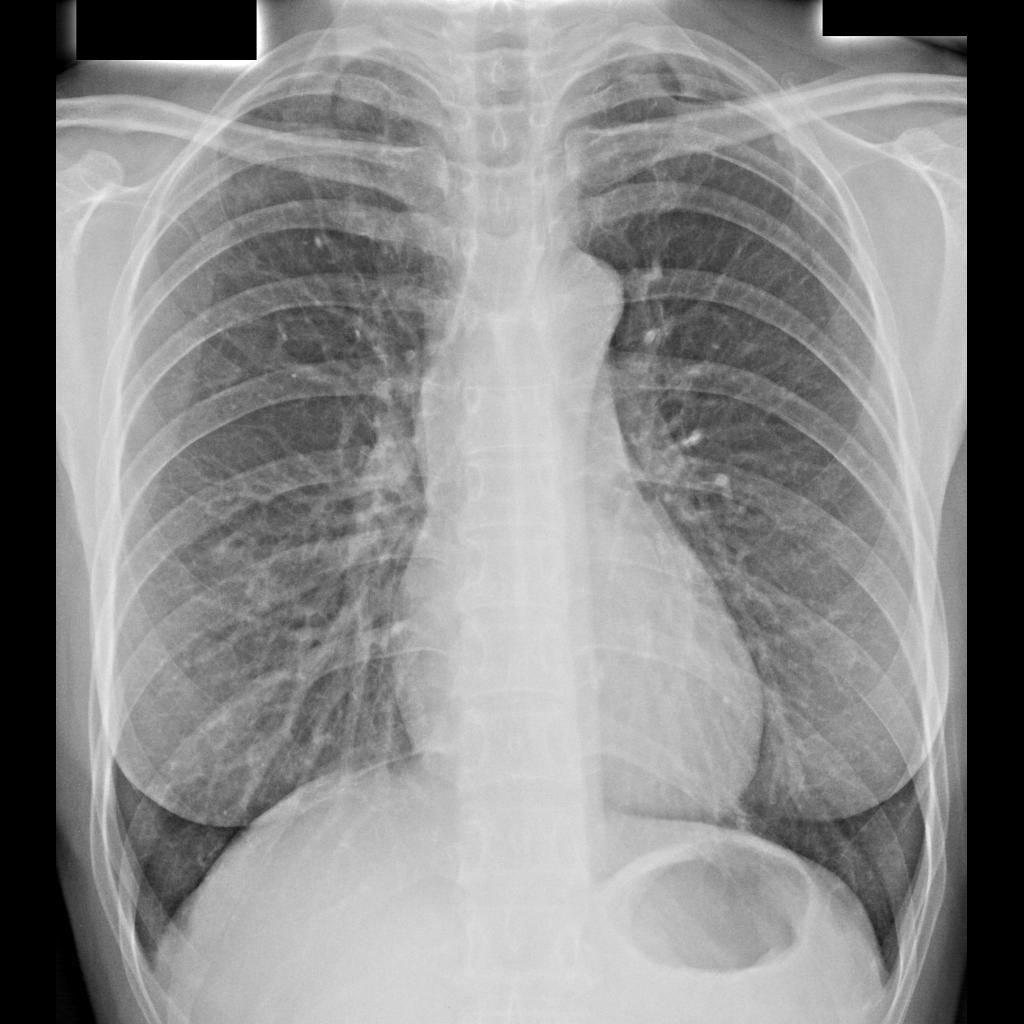Nodule: (226, 553, 267, 594)
